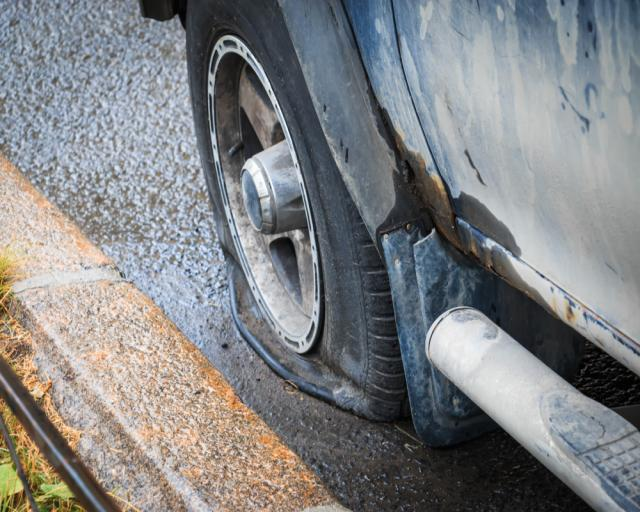tire flat: (186, 0, 411, 423)
